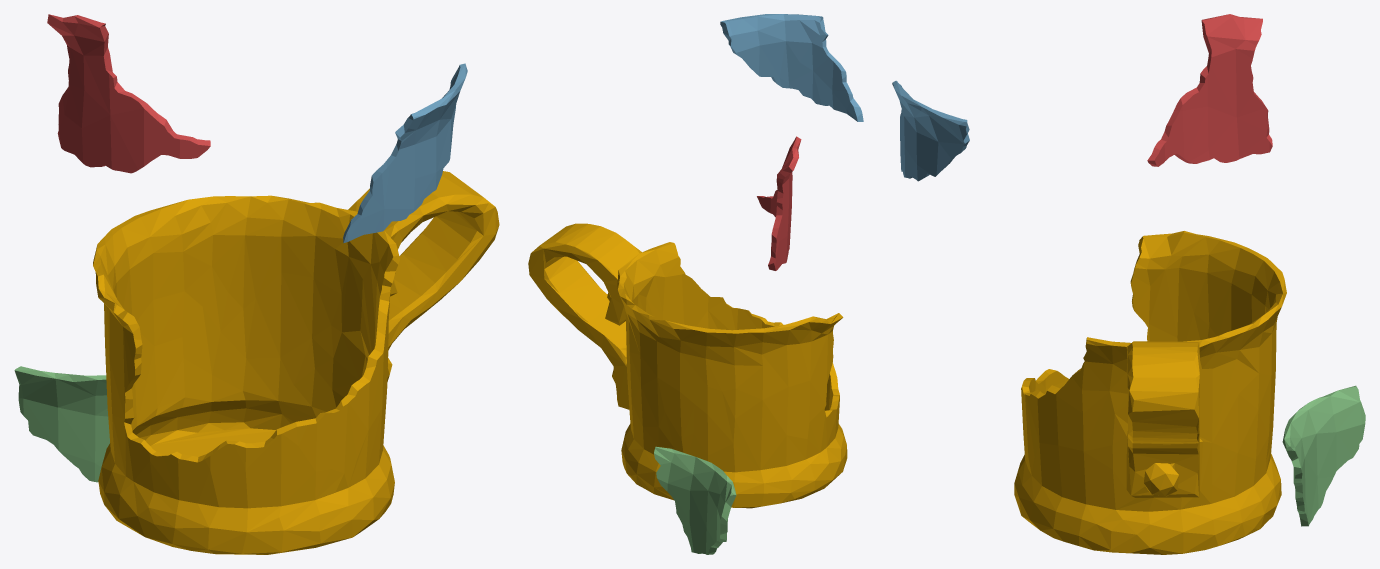
Rendered from fractured_8_4pcs_transformed.glb.
3 views of the same model, side by side, from view 1: azimuth 30°, elevation 25°; view 2: azimuth 150°, elevation 25°; view 3: azimuth 270°, elevation 25° (orthographic). The views are drawn at different scales.
Visible parts, largest first — view 1: piece_0.obj, piece_1.obj, piece_2.obj, piece_3.obj; view 2: piece_0.obj, piece_2.obj, piece_3.obj, piece_1.obj; view 3: piece_0.obj, piece_1.obj, piece_3.obj, piece_2.obj.
Part boxes in pixels (x1,y1,x2,y2): piece_0.obj: [93, 171, 499, 554]; piece_1.obj: [47, 14, 210, 173]; piece_2.obj: [343, 63, 467, 243]; piece_3.obj: [14, 366, 109, 482]; piece_0.obj: [528, 223, 847, 508]; piece_2.obj: [720, 14, 863, 121]; piece_3.obj: [654, 446, 736, 554]; piece_1.obj: [757, 136, 801, 270]; piece_0.obj: [1014, 231, 1286, 554]; piece_1.obj: [1147, 14, 1272, 166]; piece_3.obj: [1282, 385, 1365, 526]; piece_2.obj: [892, 80, 969, 181].
Size of the model in its own units: 1 by 1.31 by 1.19.
